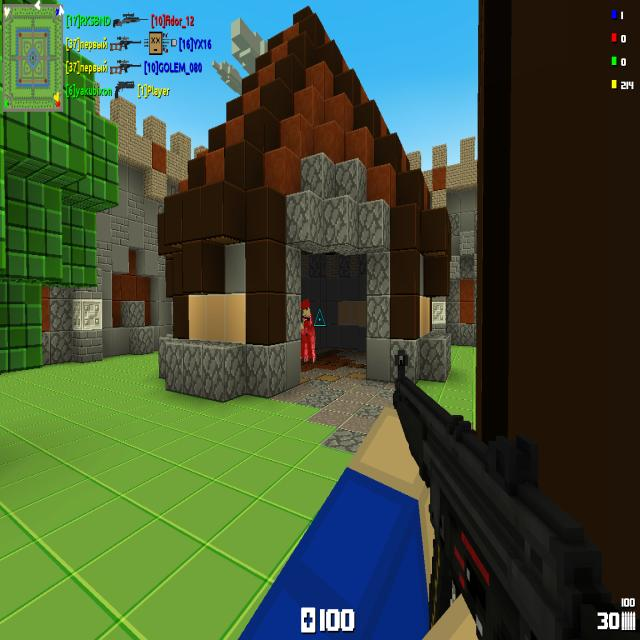enemy: (301, 298, 316, 363)
